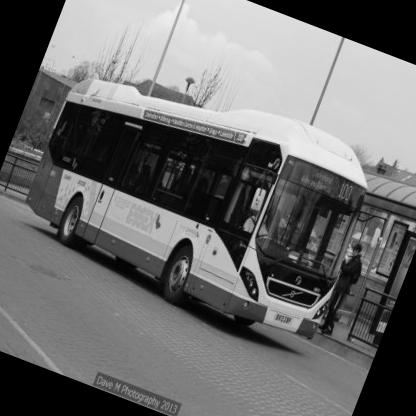bus: (1, 37, 406, 374)
